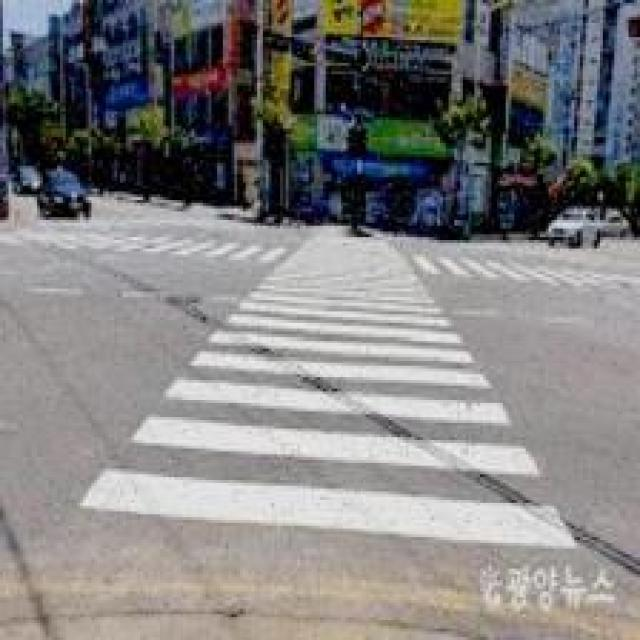walk-crossing: (90, 218, 587, 562), (418, 243, 638, 285), (14, 228, 289, 258)
